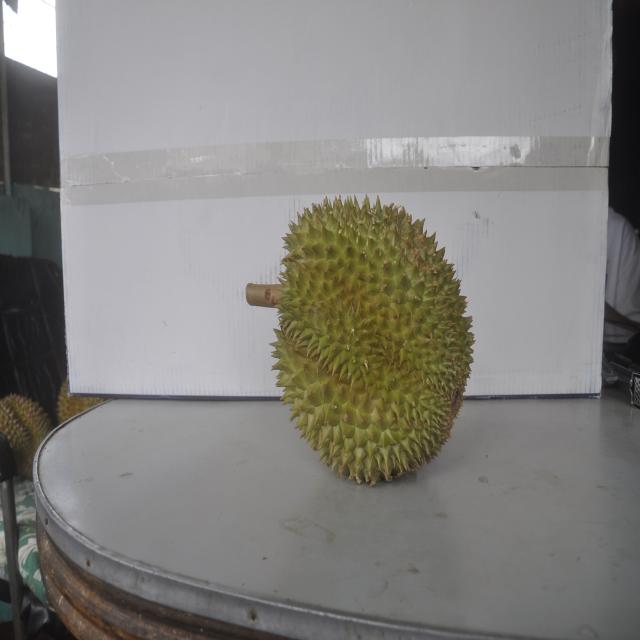mature: (266, 192, 466, 486), (1, 393, 54, 475)
